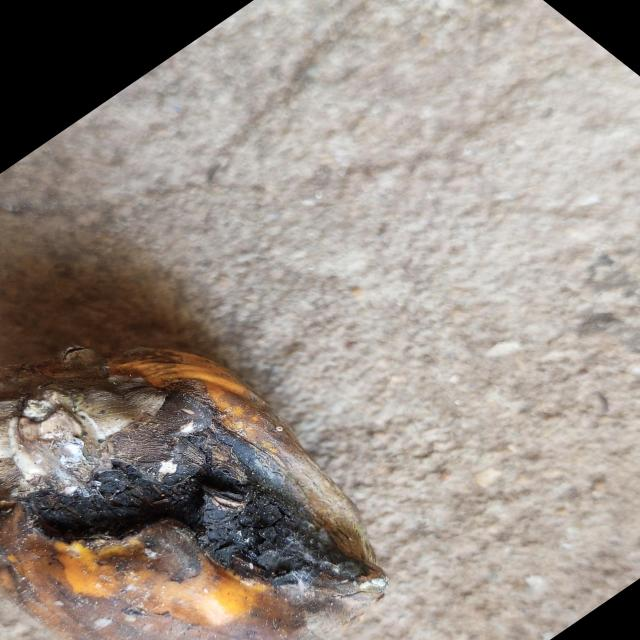damaged: (0, 356, 387, 640)
